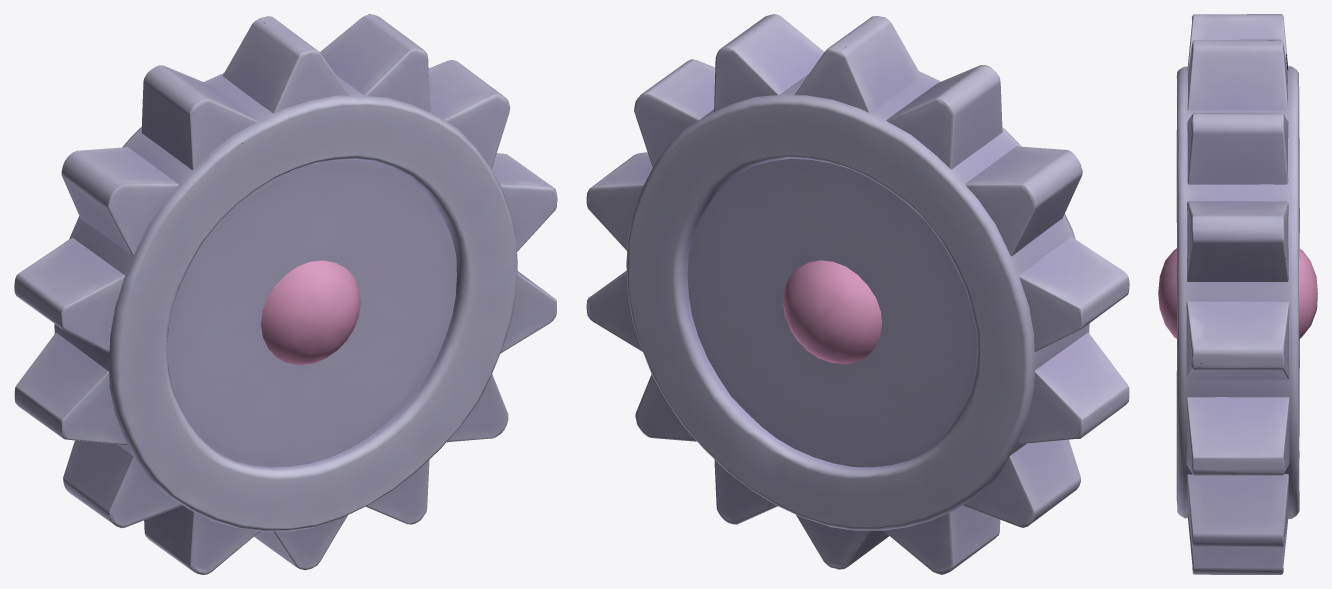
The model's file is saw_blade.glb.
The picture shows the model from 3 angles, left to right: view 1: azimuth 30°, elevation 25°; view 2: azimuth 150°, elevation 25°; view 3: azimuth 270°, elevation 25°; orthographic projection. The views are drawn at different scales.
Visible parts, largest first — view 1: geometry_0; view 2: geometry_0; view 3: geometry_0.
Boxes of the visible parts, x1,y1,x2,y2 form: geometry_0: [14, 14, 557, 574]; geometry_0: [586, 14, 1129, 574]; geometry_0: [1158, 14, 1317, 574].
Size of the model in its own units: 1 by 1 by 0.2896.
1 material, 1 textured.
